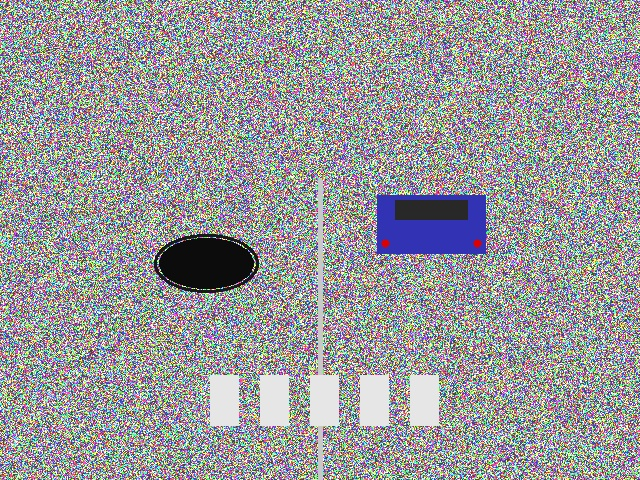pothole: (159, 238, 253, 288)
vehicle: (377, 195, 485, 253)
zebra_crossing: (190, 370, 450, 430)
